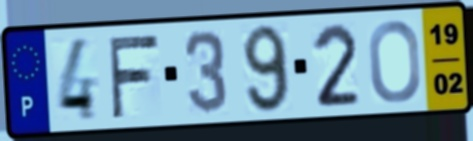2: (309, 21, 363, 110)
3: (182, 26, 231, 118)
4: (51, 35, 103, 124)
9: (239, 22, 292, 116)
F: (105, 31, 162, 121)
O: (366, 17, 423, 106)
